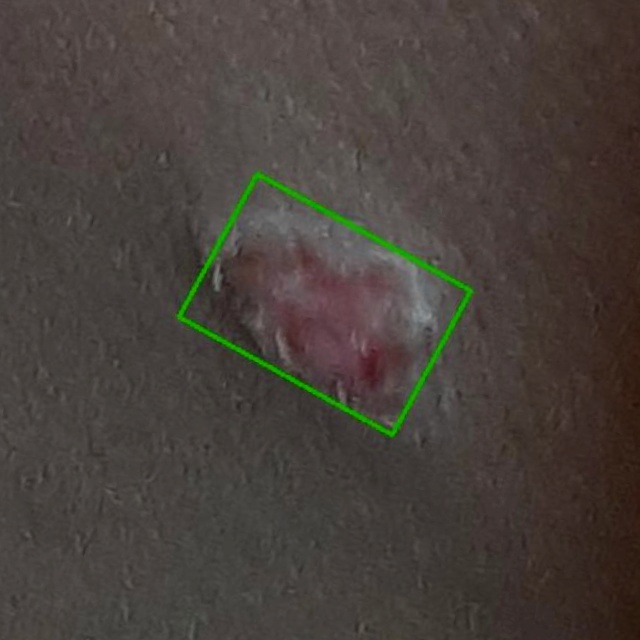Eczema: (179, 174, 471, 435)
